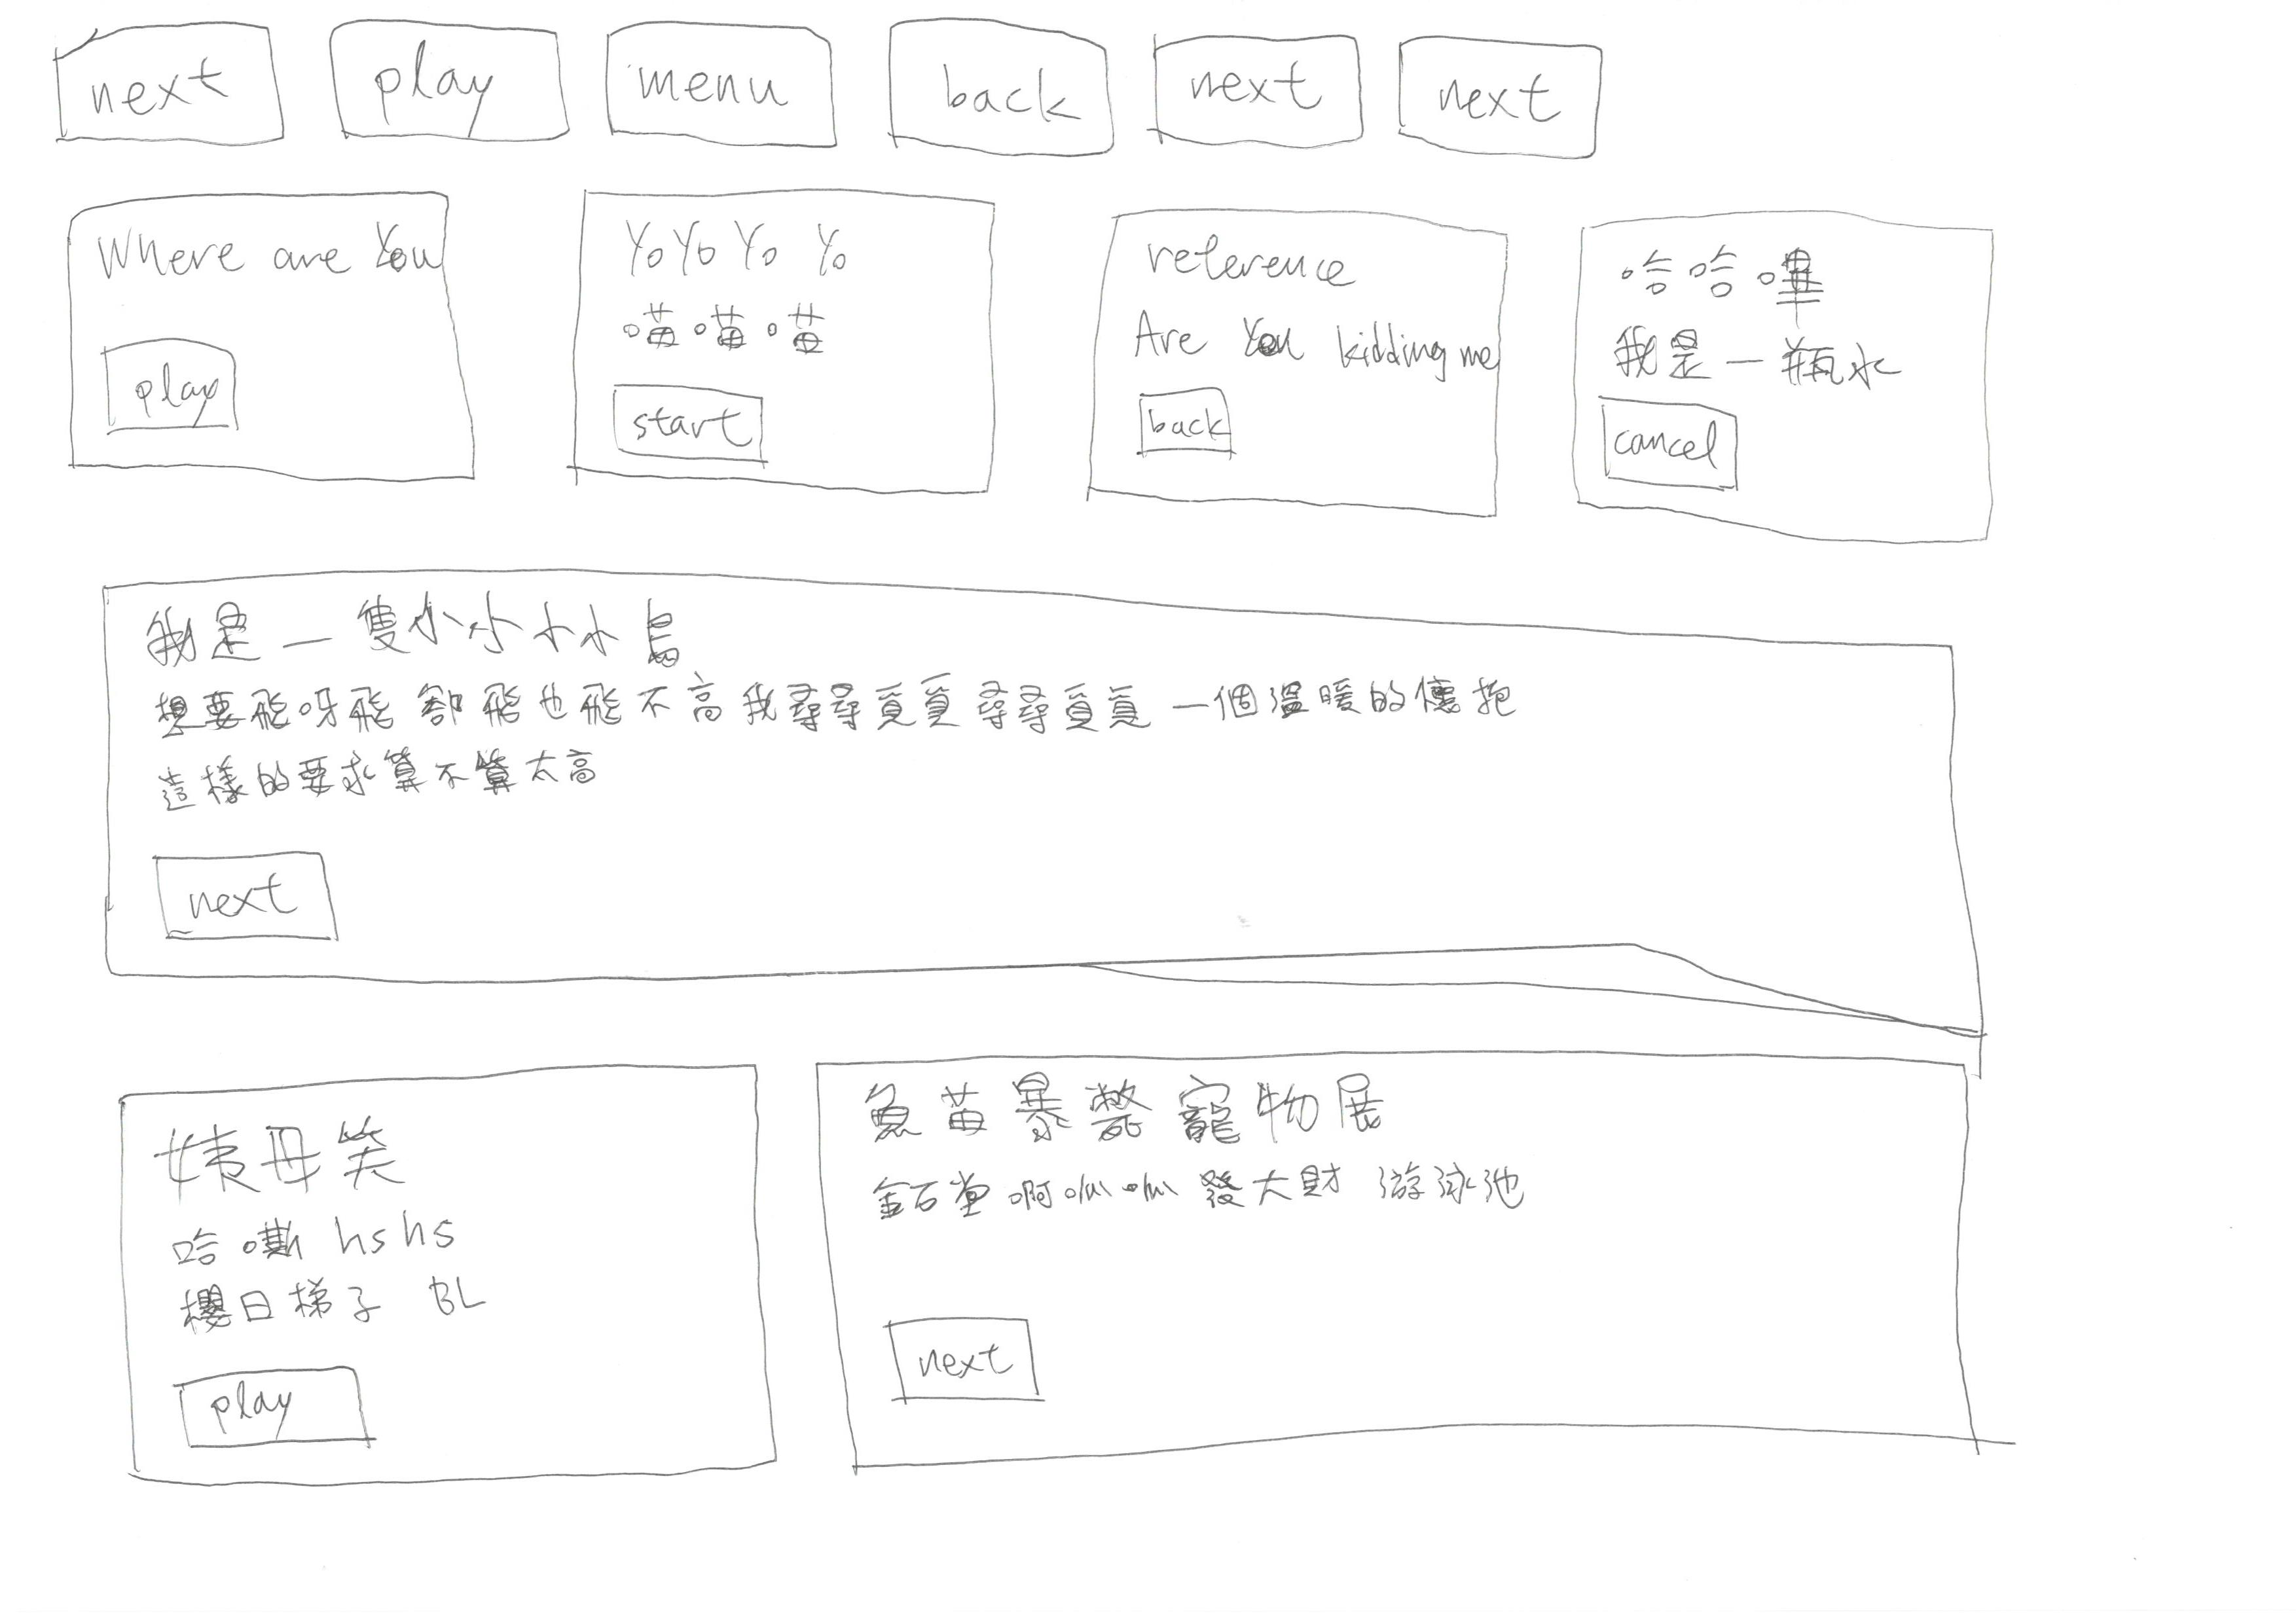back: (861, 4, 1123, 197), (1116, 374, 1266, 480)
cancel: (1582, 390, 1770, 503)
double: (775, 1032, 2064, 1524), (63, 1025, 791, 1545)
menu: (587, 0, 860, 178)
next: (1375, 4, 1626, 181), (28, 7, 295, 163), (1132, 21, 1392, 170), (135, 835, 373, 977), (860, 1301, 1072, 1424)
play: (318, 4, 599, 167), (169, 1360, 396, 1469), (86, 329, 255, 450)
quadruple: (526, 178, 1025, 547), (1563, 197, 2029, 587), (1062, 190, 1547, 559), (21, 185, 508, 545)
row: (7, 1014, 2296, 1580), (7, 545, 2296, 1062), (7, 179, 2296, 557), (7, 0, 2296, 193)
single: (40, 562, 2085, 1060)
small-title: (846, 1062, 1428, 1165), (141, 589, 710, 671), (91, 211, 431, 306), (156, 1102, 422, 1213)
start: (607, 367, 800, 483)
text: (141, 656, 1542, 803), (876, 1146, 1568, 1243), (1146, 232, 1487, 397), (176, 1190, 513, 1336), (607, 223, 890, 374), (1619, 258, 1920, 380)
